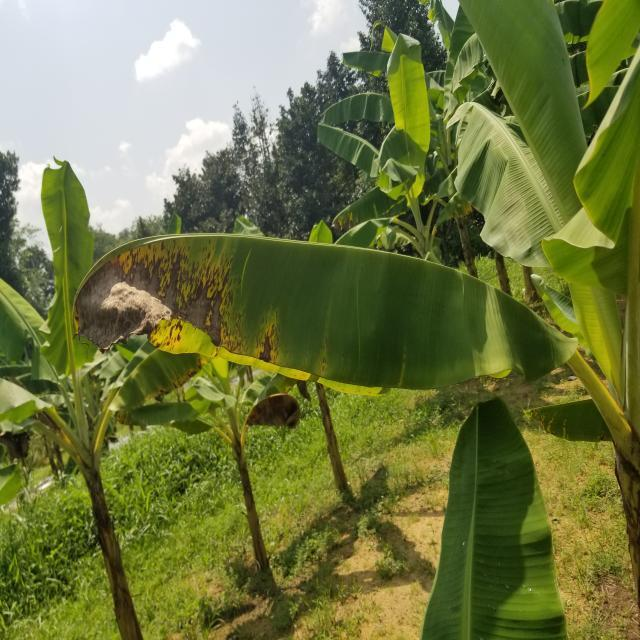Early_rust: (45, 179, 562, 476)
